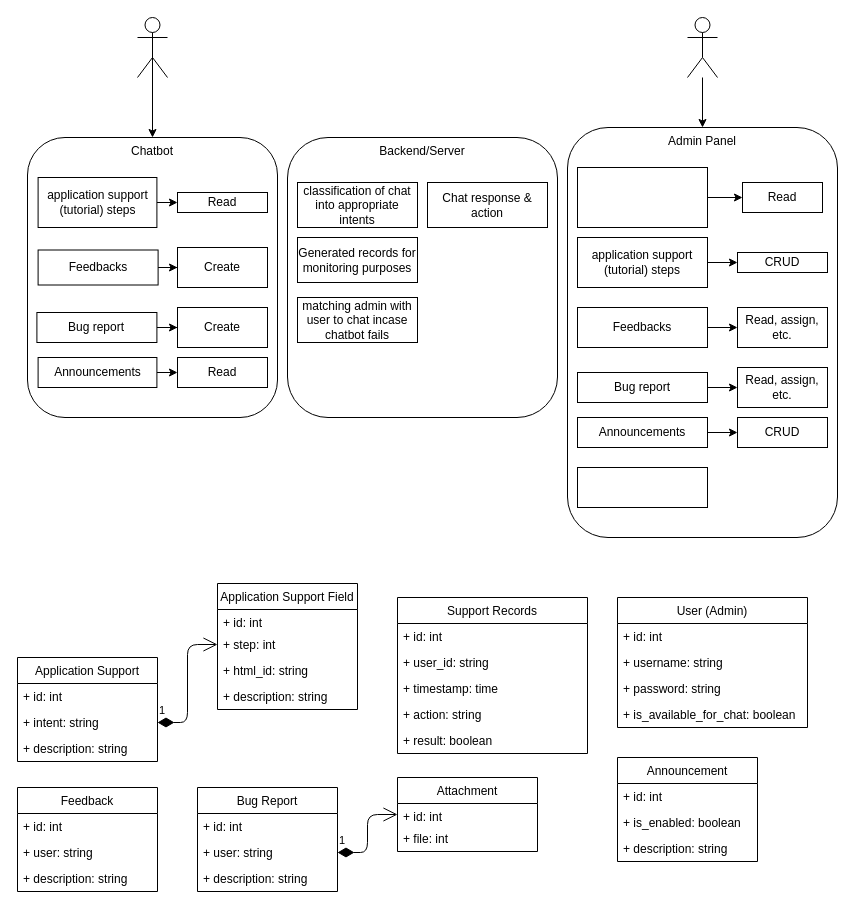
The diagram is 855 pixels wide and 912 high, and some of its shapes have lost their labels. The centre of each missing label's shape, as x and y in pixels:
Admin: (x=702, y=47)
Chat with user: (x=642, y=487)
Client: (x=152, y=47)
Monitor no of successes, failures and hits: (x=642, y=197)
